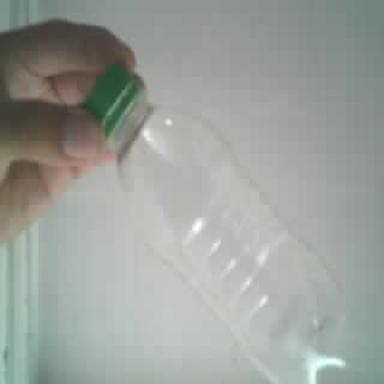bottle: (85, 64, 346, 382)
